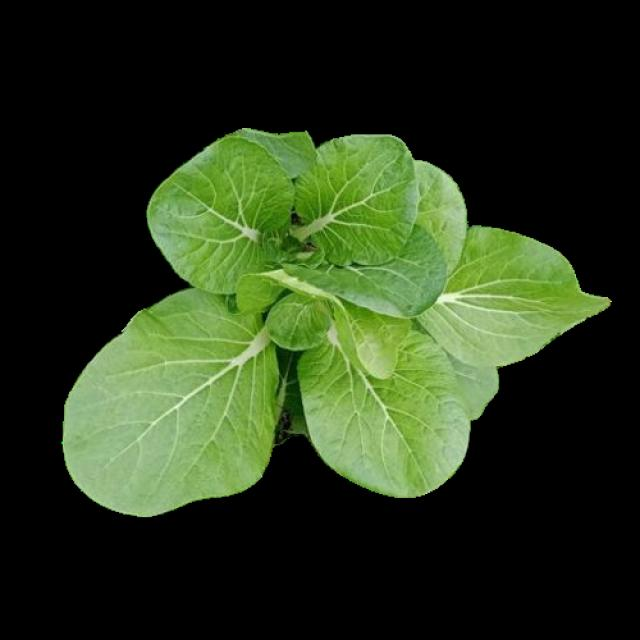healthy: (61, 131, 607, 508)
mature: (66, 136, 612, 513)
